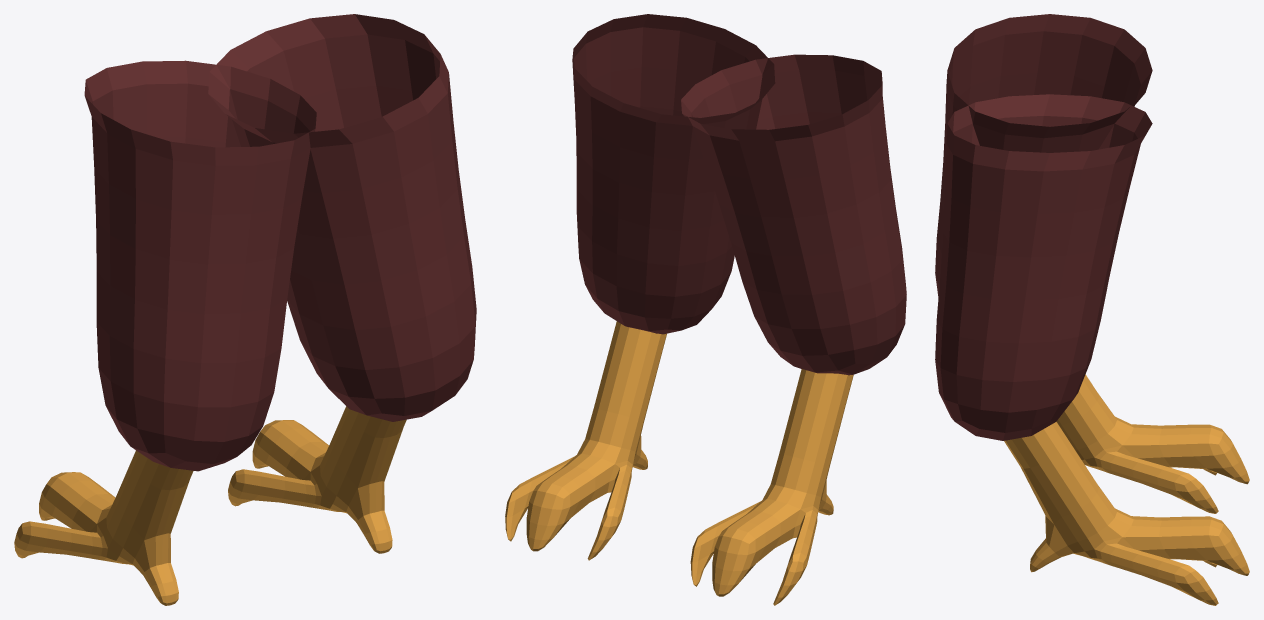
File: eaglelegs.fbx
3 renders of one model, left to right at view 1: azimuth 30°, elevation 25°; view 2: azimuth 150°, elevation 25°; view 3: azimuth 270°, elevation 25°, orthographic. The views are drawn at different scales.
Parts seen in each view (by area): view 1: legs; view 2: legs; view 3: legs.
Boxes of the visible parts, x1=… form: legs: x1=14, y1=14, x2=476, y2=605; legs: x1=505, y1=14, x2=906, y2=605; legs: x1=935, y1=14, x2=1249, y2=605.
Bounding box in the file's own units: 129 × 181 × 113.
